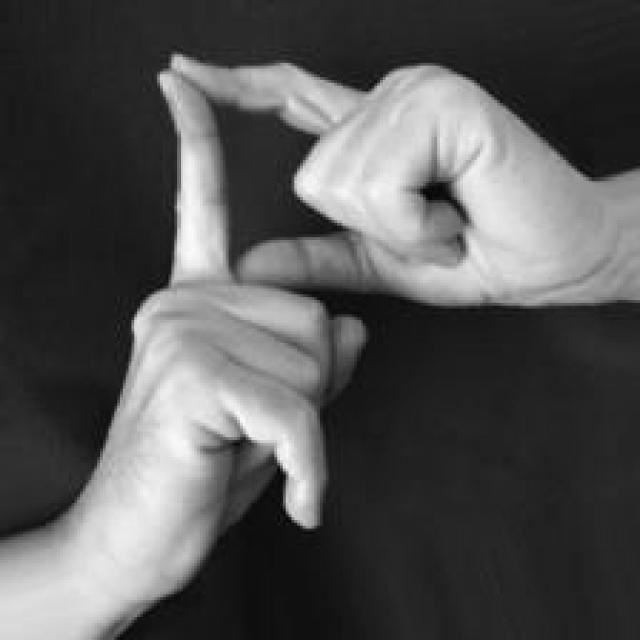D: (114, 48, 596, 612)
